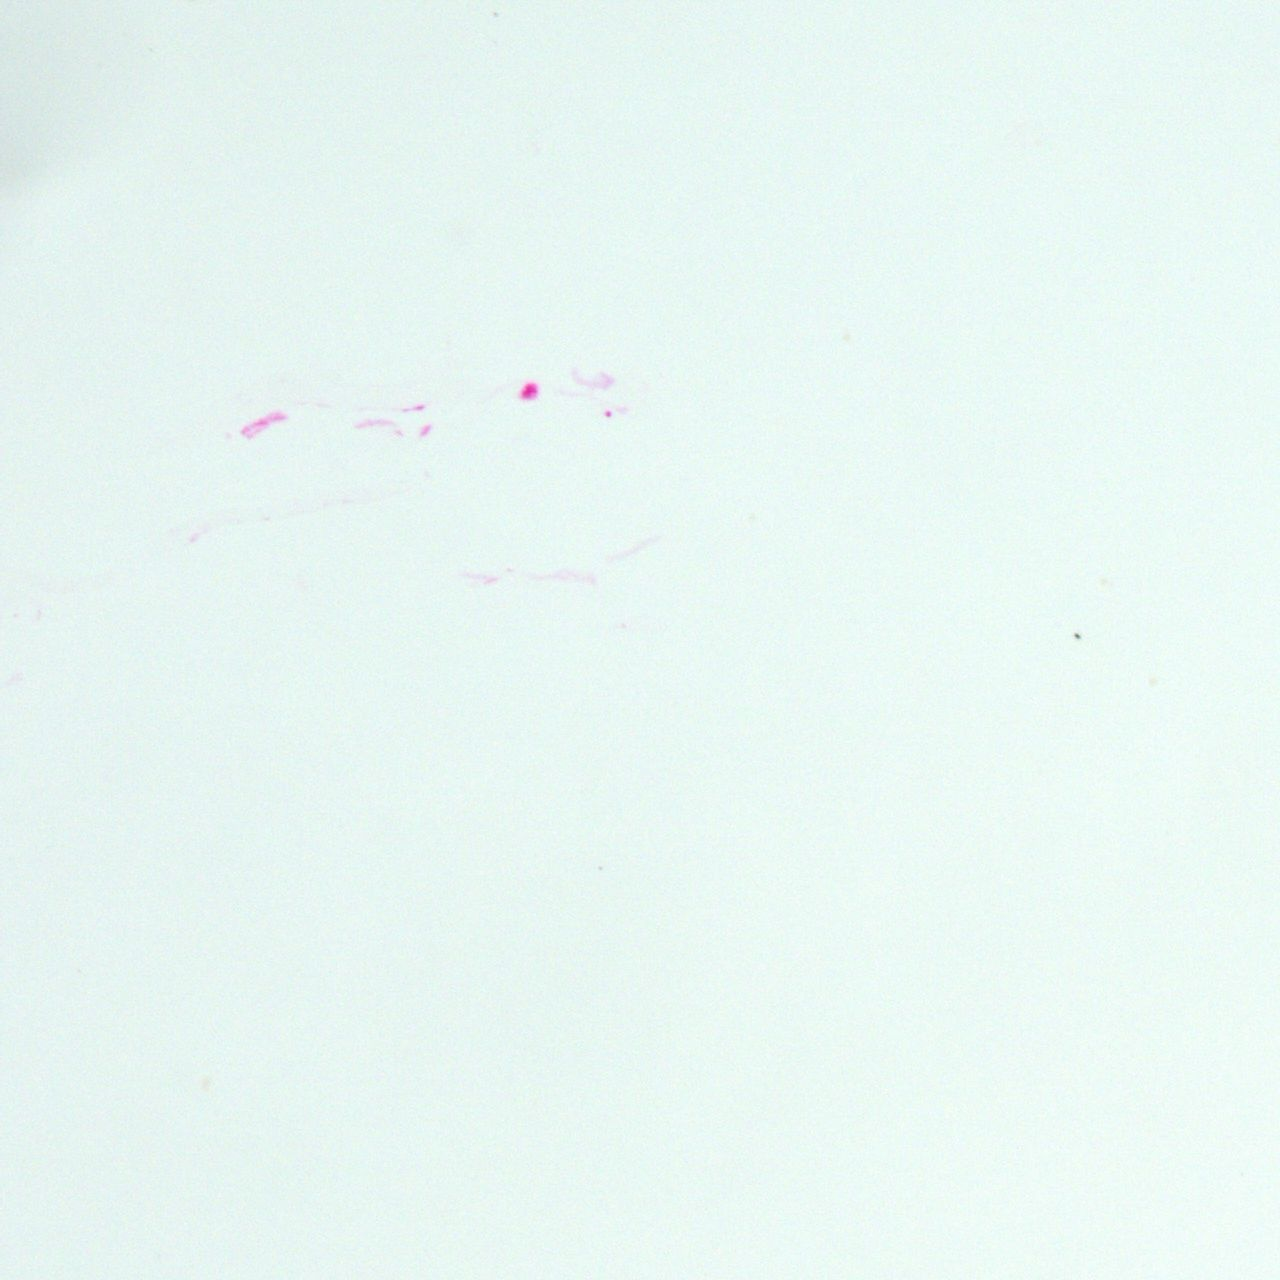dust: (1073, 632, 1081, 638)
nucleus-FG: (522, 383, 537, 397)
